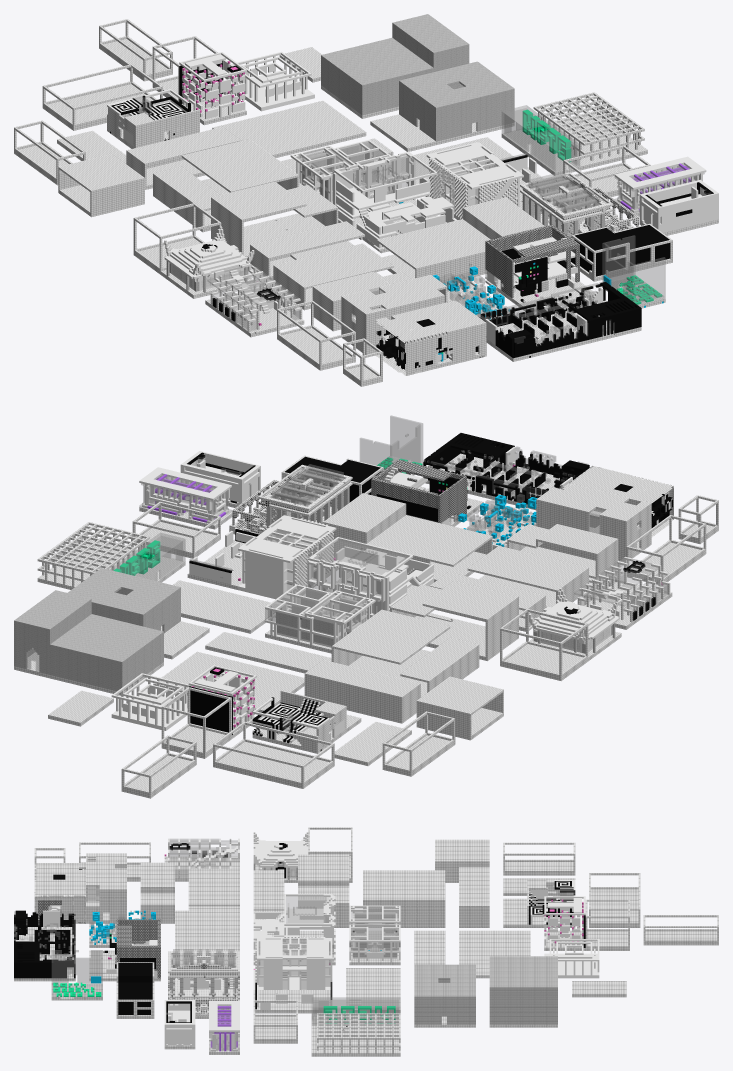
File: LeMarais-v1.glb
3 renders of one model, top to bottom at view 1: azimuth 30°, elevation 25°; view 2: azimuth 150°, elevation 25°; view 3: azimuth 270°, elevation 25°, orthographic. The views are drawn at different scales.
Visible parts, largest first — view 1: solid-voxels_14.009, solid-voxels_59.007, solid-voxels_36.008, solid-voxels_53.007, solid-voxels_23.008, solid-voxels_39.008, solid-voxels_30.008, solid-voxels_41.008, solid-voxels_61.007, solid-voxels_40.008, solid-voxels_42.008, solid-voxels_47.008 (+57 smaller); view 2: solid-voxels_36.008, solid-voxels_41.008, solid-voxels_54.007, solid-voxels_64.006, solid-voxels_14.009, solid-voxels_39.008, solid-voxels_42.008, solid-voxels_30.008, solid-voxels_23.008, solid-voxels_53.007, solid-voxels_1.009, solid-voxels_17.009 (+59 smaller); view 3: solid-voxels_64.006, solid-voxels_14.009, solid-voxels_41.008, solid-voxels_23.008, solid-voxels_16.009, solid-voxels_35.008, solid-voxels_54.007, solid-voxels_59.007, solid-voxels_30.008, solid-voxels_62.006, solid-voxels_1.009, solid-voxels_21.008 (+56 smaller).
Part boxes in pixels (x1,y1,x2,y2): solid-voxels_14.009: (399, 61, 514, 144); solid-voxels_59.007: (375, 300, 486, 375); solid-voxels_36.008: (321, 37, 433, 118); solid-voxels_53.007: (485, 224, 579, 301); solid-voxels_23.008: (533, 92, 647, 170); solid-voxels_39.008: (377, 219, 490, 283); solid-voxels_30.008: (332, 151, 437, 239); solid-voxels_41.008: (425, 142, 523, 219); solid-voxels_61.007: (479, 298, 588, 361); solid-voxels_40.008: (205, 263, 304, 337); solid-voxels_42.008: (211, 181, 306, 256); solid-voxels_47.008: (58, 154, 144, 217); solid-voxels_36.008: (50, 614, 163, 695); solid-voxels_41.008: (238, 515, 338, 601); solid-voxels_54.007: (536, 483, 651, 561); solid-voxels_64.006: (331, 609, 450, 681); solid-voxels_14.009: (67, 568, 180, 633); solid-voxels_39.008: (366, 515, 492, 582); solid-voxels_42.008: (422, 581, 518, 660); solid-voxels_30.008: (307, 537, 415, 619); solid-voxels_23.008: (37, 522, 149, 589); solid-voxels_53.007: (371, 459, 466, 526); solid-voxels_1.009: (213, 721, 334, 788); solid-voxels_17.009: (252, 690, 346, 753); solid-voxels_64.006: (363, 872, 445, 927); solid-voxels_14.009: (414, 964, 475, 1027); solid-voxels_41.008: (253, 937, 332, 989); solid-voxels_23.008: (311, 1013, 400, 1056); solid-voxels_16.009: (489, 973, 557, 1027); solid-voxels_35.008: (168, 950, 239, 1002); solid-voxels_54.007: (86, 853, 126, 923); solid-voxels_59.007: (34, 863, 85, 923); solid-voxels_30.008: (284, 894, 335, 965); solid-voxels_62.006: (14, 941, 75, 981); solid-voxels_1.009: (589, 873, 640, 927); solid-voxels_21.008: (459, 930, 530, 963).
Size of the model in its own units: 137 by 13 by 206.
2 materials, 1 textured.
